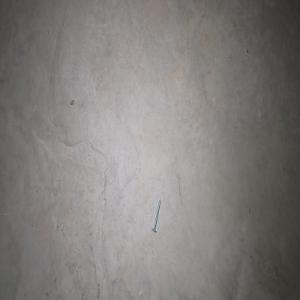Bolt: (151, 198, 161, 233)
